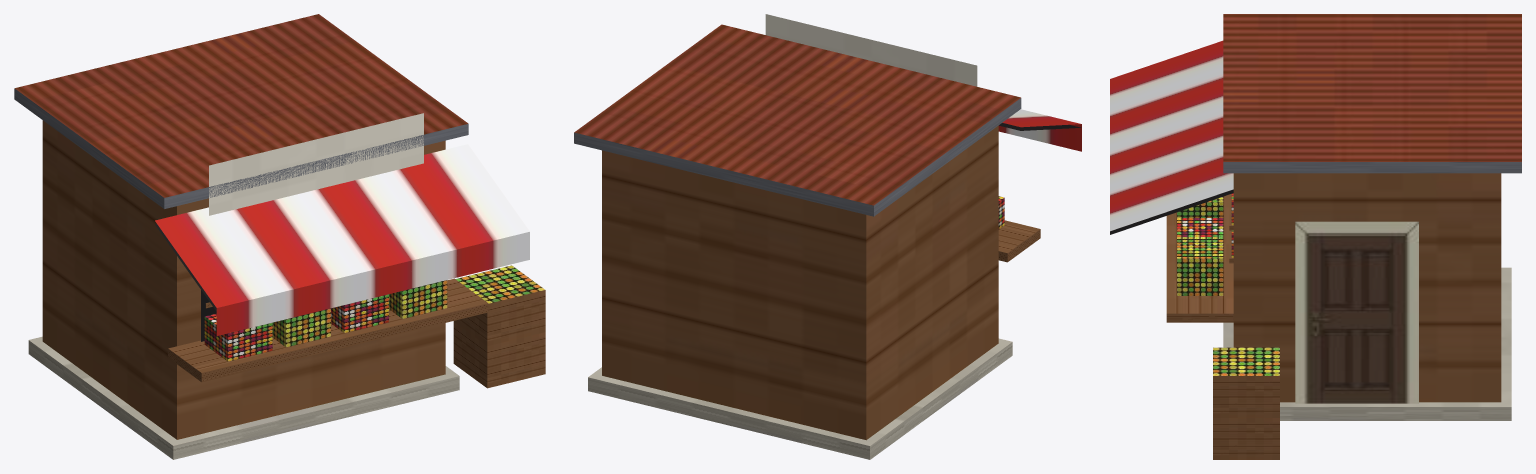
The model's file is kiosk-red-far.glb.
3 renders of one model, left to right at view 1: azimuth 30°, elevation 25°; view 2: azimuth 150°, elevation 25°; view 3: azimuth 270°, elevation 25°, orthographic.
Parts seen in each view (by area): view 1: kiosk-red-far, sign_1; view 2: kiosk-red-far, sign_1; view 3: kiosk-red-far.
Part boxes in pixels (x1,y1,x2,y2): kiosk-red-far: [14, 14, 545, 459]; sign_1: [209, 113, 423, 215]; kiosk-red-far: [574, 24, 1081, 459]; sign_1: [765, 14, 977, 86]; kiosk-red-far: [1110, 14, 1521, 459].
Bounding box in the file's own units: 4.25 × 3.05 × 4.
1 material, 1 textured.
